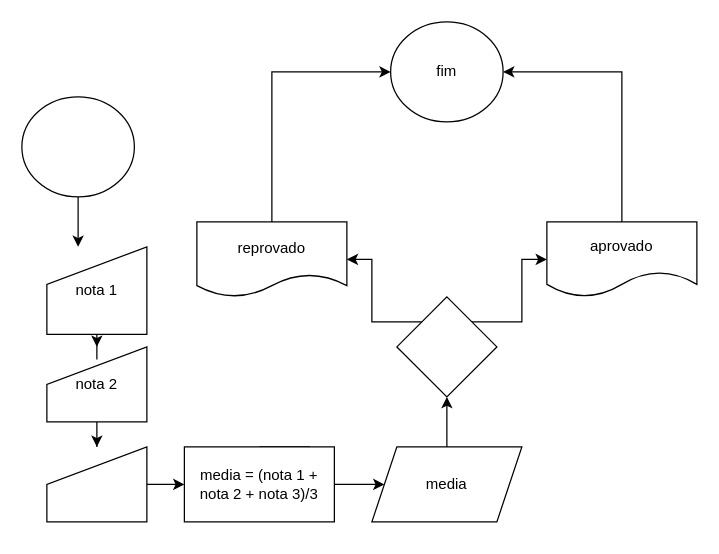
This 719x554 diagram has some shape labels left out. Here are the shapes that lost their labels. From the top down, the box of each, then its label:
(21, 96, 134, 197): inicio
(396, 296, 497, 397): media >=7
(46, 446, 147, 522): nota 3
